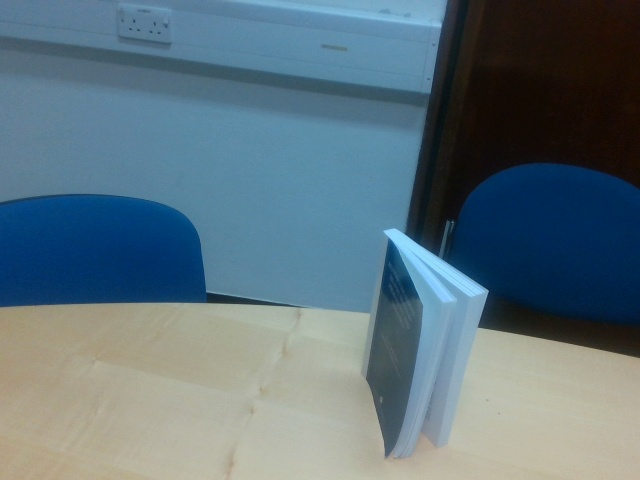book: (360, 228, 488, 461)
